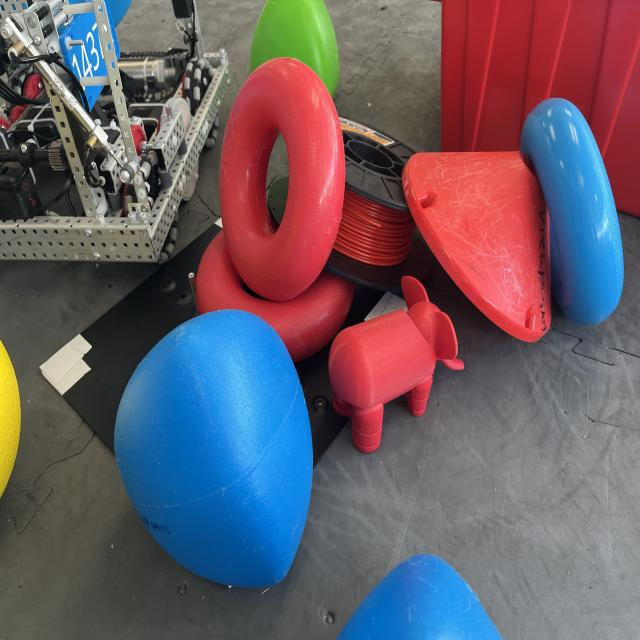Blue-Ring: (520, 98, 624, 325)
Red-Ring: (220, 58, 345, 300), (195, 232, 354, 362)
